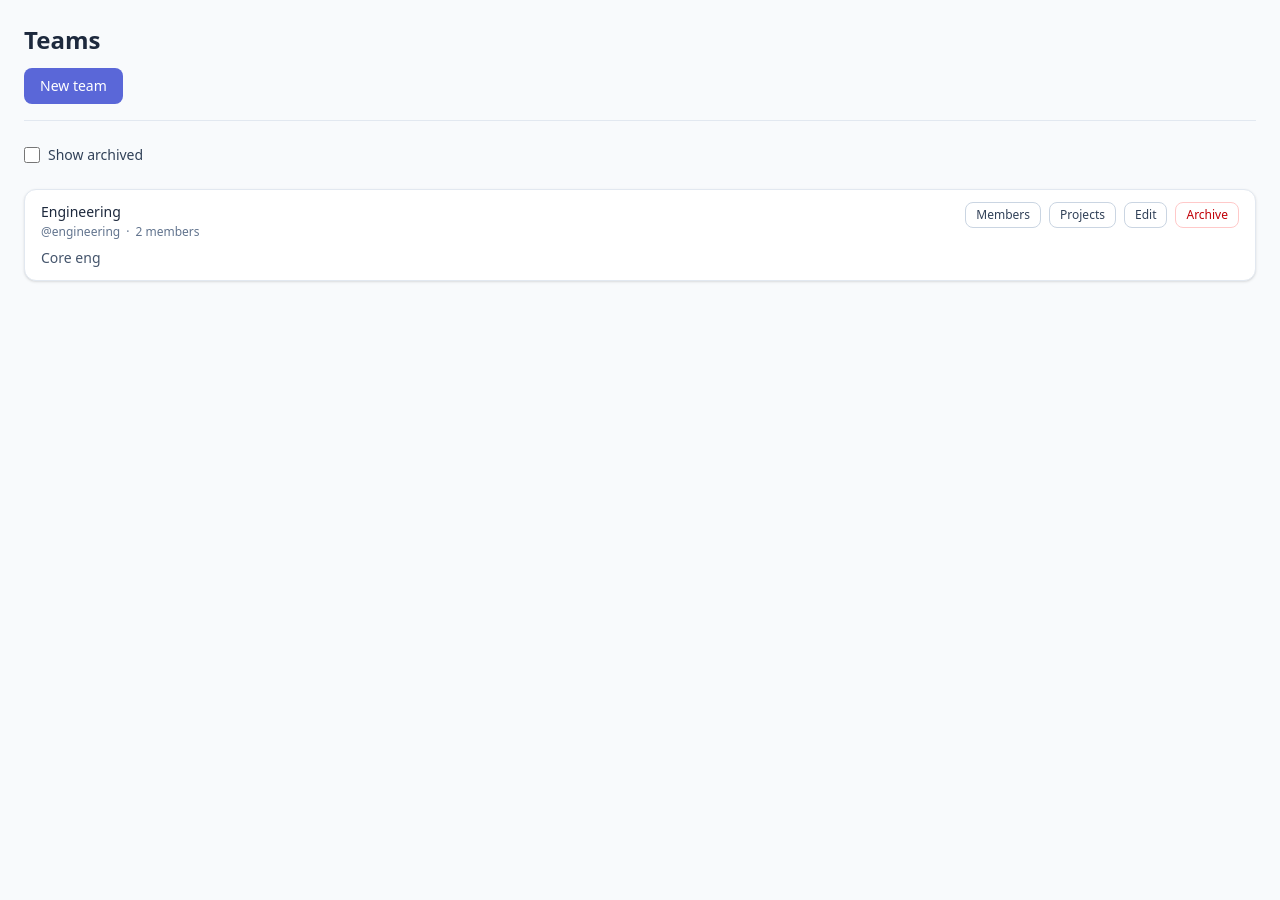
Test: TeamsPanel - create flow › shows an error when team creation fails
The width and height of the screenshot is (1280, 900).
Check: the text "Engineering" is shown, box [41, 202, 121, 222]
Click the button "New team" at (73,86), box [24, 68, 123, 104]
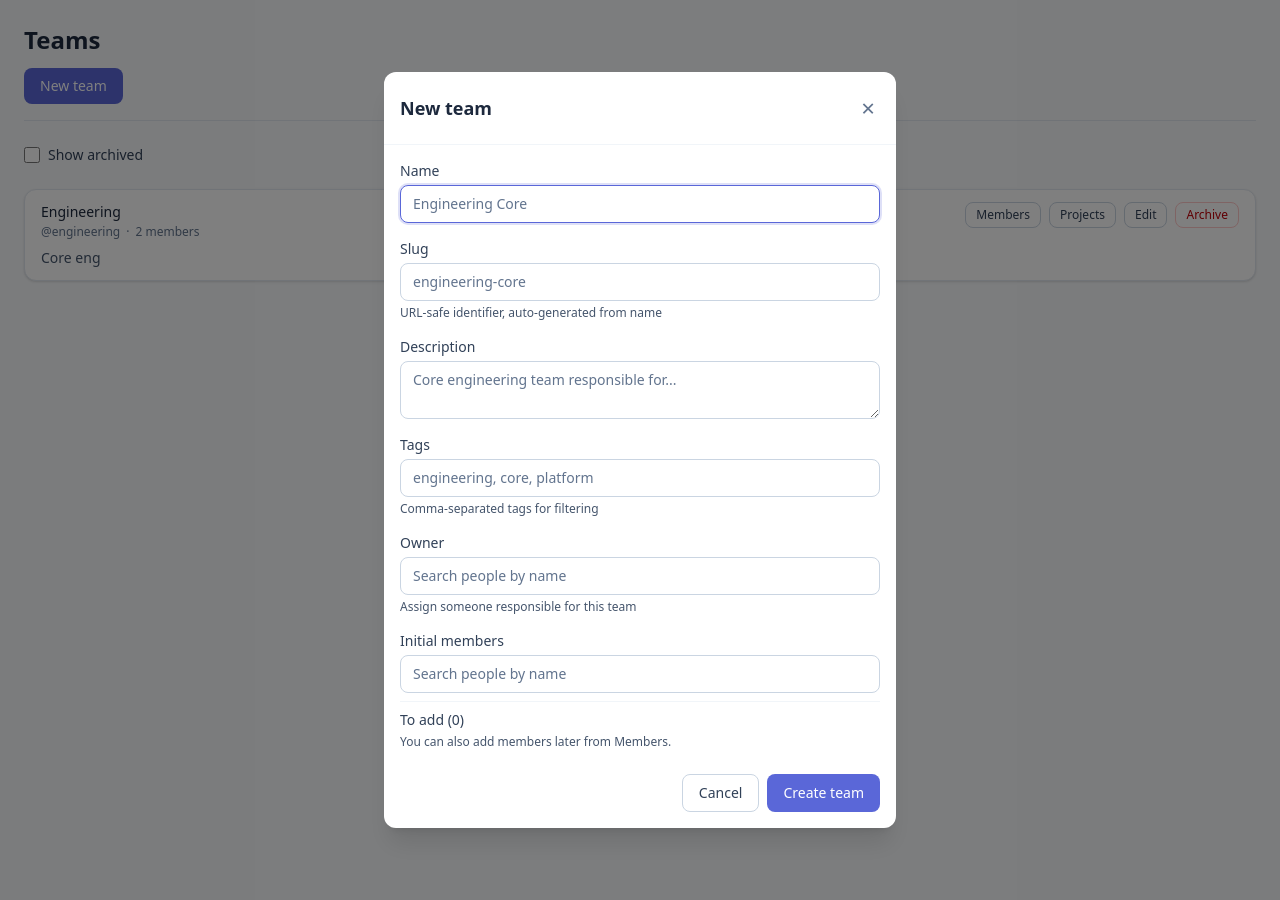
Type "Dup" into the field with placeholder "Engineering Core" at (640,204), box [400, 185, 880, 223]
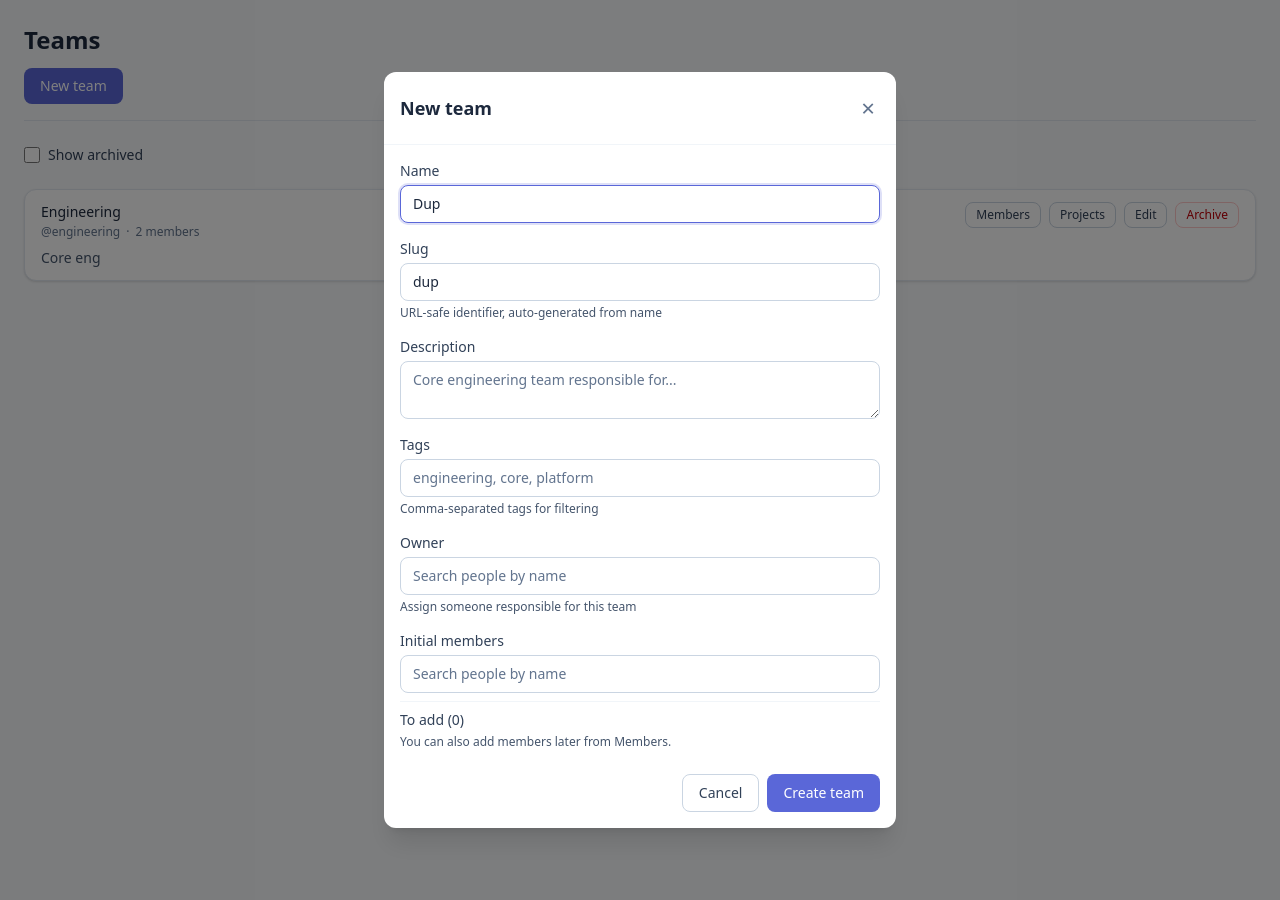
Click the button "Create team" at (824,793), box [767, 774, 880, 812]
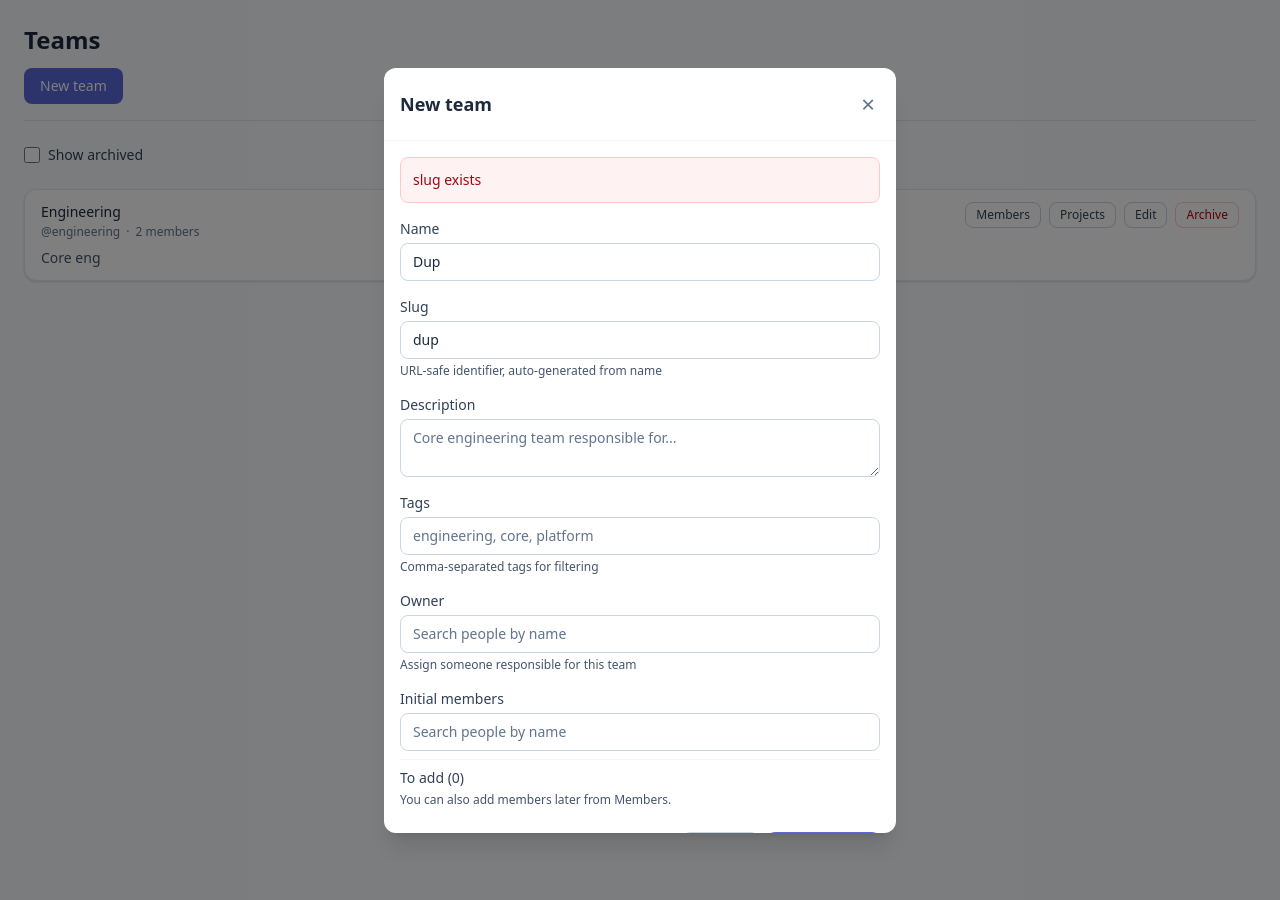
Check: the text "slug exists" is shown, box [413, 170, 481, 190]
